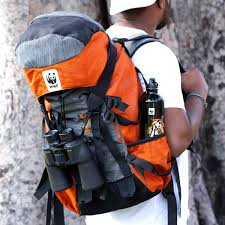backpack: (14, 10, 178, 218)
